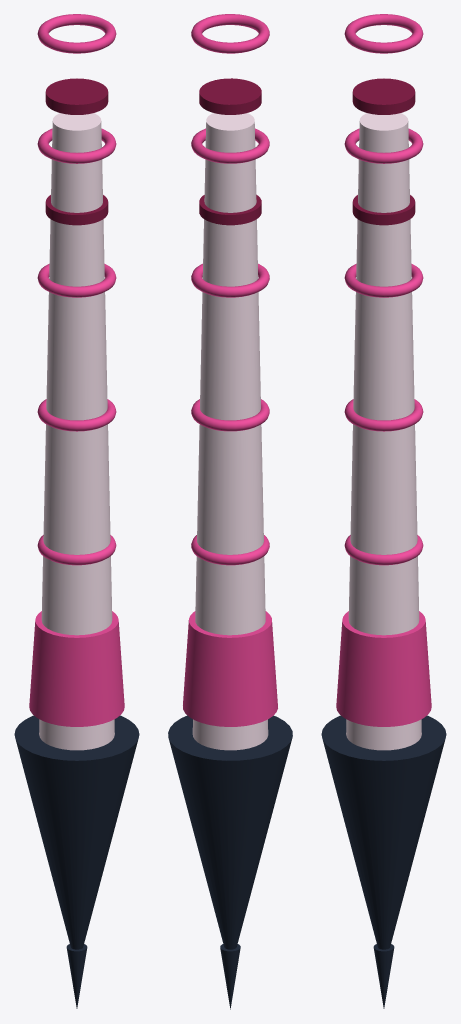
File: brush.gltf
The picture shows the model from 3 angles, left to right: view 1: azimuth 90°, elevation 25°; view 2: azimuth 210°, elevation 25°; view 3: azimuth 270°, elevation 25°; orthographic projection.
Size of the model in its own units: 0.72 by 6.23 by 0.72.
